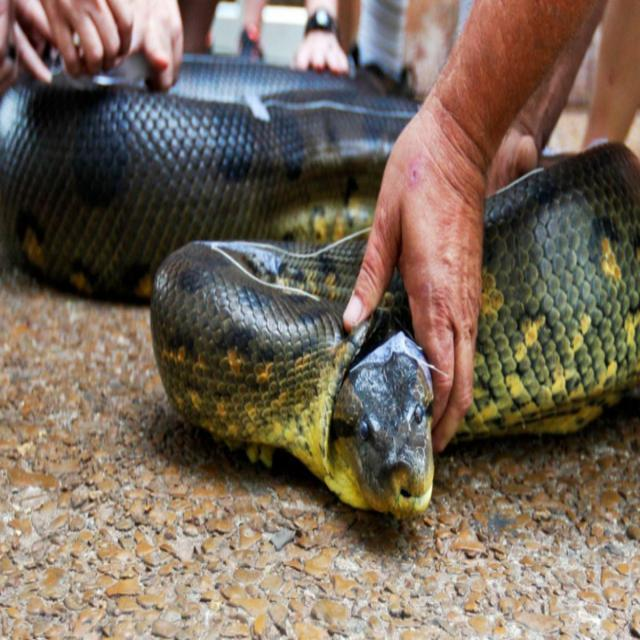Snake: (0, 16, 640, 514)
